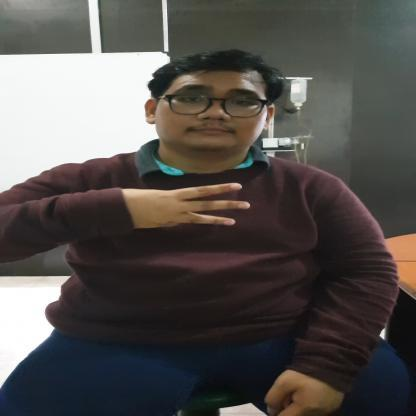E: (123, 182, 251, 228)
